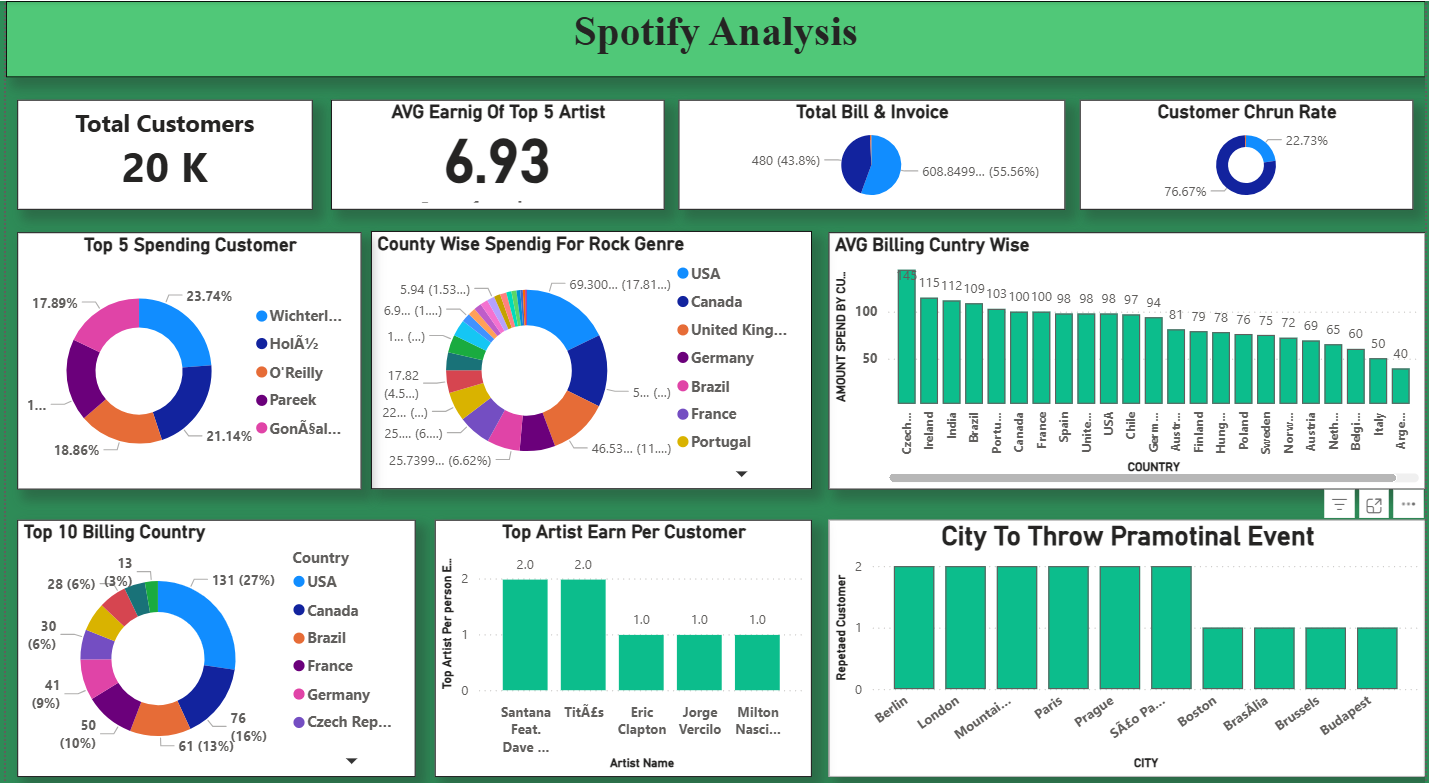

The dashboard page shown, as its layout file describes it:
{"tool":"powerbi","page":{"name":"Page 1","canvas":[1280,720],"ordinal":0},"visuals":[{"type":"textbox","box":[0,0,1280.3,68.6],"z":0},{"type":"clusteredColumnChart","title":"AVG Billing Cuntry Wise","fields":{"Category":["Country Wise Most Spendig Customers.billing_country"],"Y":["Sum(Country Wise Most Spendig Customers.total_spent)"]},"box":[741.1,208.6,538.7,231.9],"z":1000},{"type":"donutChart","title":"County Wise Spendig For Rock Genre","fields":{"Category":["Most Popular Genre For each Country.billing_country"],"Series":["Most Popular Genre For each Country.genre_name"],"Y":["Sum(Most Popular Genre For each Country.total_spent)"]},"box":[328.8,207.4,397.5,233.1],"z":2000},{"type":"donutChart","title":"Top 5 Spending Customer","fields":{"Y":["Sum(Most Spending Customers.total_spent)"],"Category":["Most Spending Customers.last_name"]},"box":[9.8,208.6,310.4,231.9],"z":3000},{"type":"columnChart","title":"City To Throw Pramotinal Event","fields":{"Category":["Throw Pramotinal Events.city"],"Y":["Sum(Throw Pramotinal Events.frequent_customers)"]},"box":[741.1,467.5,538.7,231.9],"z":4000},{"type":"donutChart","title":"Top 10 Billing Country","fields":{"Category":["Top 10 Countty With Invoices.billing_country"],"Y":["Sum(Top 10 Countty With Invoices.most_invoice)"]},"box":[9.8,467.5,359.5,231.9],"z":5000},{"type":"clusteredColumnChart","title":"Top Artist Earn Per Customer","fields":{"Category":["Top 5 Artist earmig per customer.artist_name"],"Y":["Sum(Top 5 Artist earmig per customer.total_spent)"]},"box":[386.5,467.5,339.9,231.9],"z":6000},{"type":"card","title":"AVG Earnig Of Top 5 Artist","fields":{"Values":["Sum(Top 5 Artist earmig per customer.total_spent)"]},"box":[293.3,89.6,300.6,99.4],"z":7000},{"type":"pieChart","title":"Total Bill & Invoice","fields":{"Y":["Sum(Most Spending Customers.total_spent)","Sum(Top 10 Countty With Invoices.most_invoice)","Sum(Top 5 Artist earmig per customer.total_spent)"]},"box":[606.1,89.6,348.5,99.4],"z":8000},{"type":"donutChart","title":"Customer Chrun Rate","fields":{"Y":["Sum(Most Spending Customers.total_spent)","Sum(Country Wise Most Spendig Customers.total_spent)","Sum(Throw Pramotinal Events.frequent_customers)"]},"box":[968.1,89.6,300.6,99.4],"z":9000},{"type":"textbox","box":[9.8,89.6,266.3,99.4],"z":10000}]}

Visuals, with their boxes in screenshot pixels (x1, y1, x2, y2), scaled from the page's 1280x720 canvas onto the 1429x783 screenshot:
textbox: 0/0/1428/75
"AVG Billing Cuntry Wise" clusteredColumnChart: 827/227/1428/479
"County Wise Spendig For Rock Genre" donutChart: 367/226/811/479
"Top 5 Spending Customer" donutChart: 11/227/357/479
"City To Throw Pramotinal Event" columnChart: 827/508/1428/761
"Top 10 Billing Country" donutChart: 11/508/412/761
"Top Artist Earn Per Customer" clusteredColumnChart: 431/508/811/761
"AVG Earnig Of Top 5 Artist" card: 327/97/663/206
"Total Bill & Invoice" pieChart: 677/97/1066/206
"Customer Chrun Rate" donutChart: 1081/97/1416/206
textbox: 11/97/308/206
